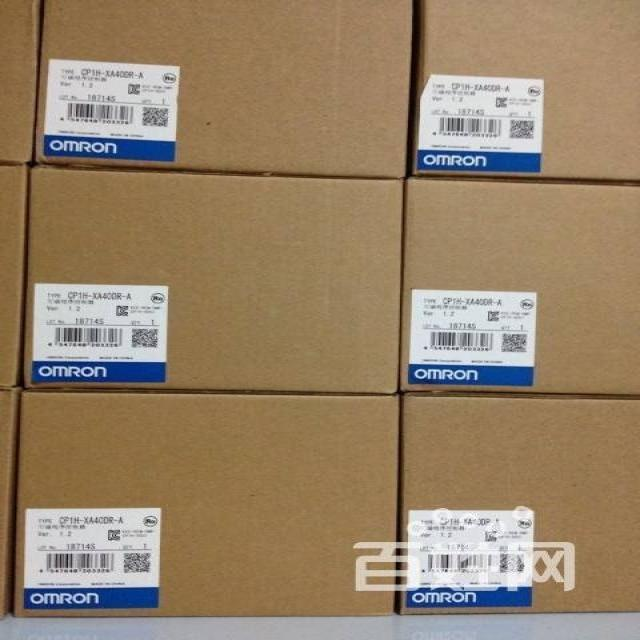box: (25, 164, 404, 392), (15, 393, 399, 617), (36, 0, 415, 178), (401, 395, 640, 615), (401, 177, 640, 395), (415, 0, 640, 183), (0, 1, 41, 163), (0, 164, 29, 388), (0, 386, 19, 615)
